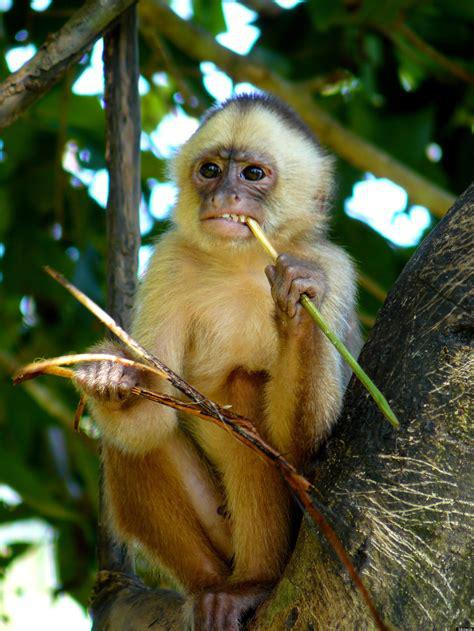monkey: (76, 98, 354, 630)
